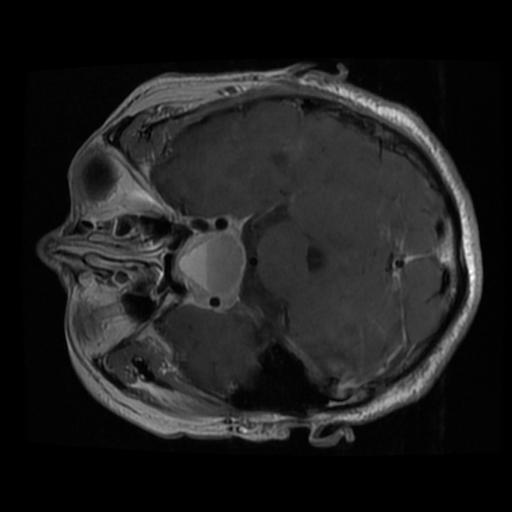pituitary tumour: (174, 232, 245, 304)
